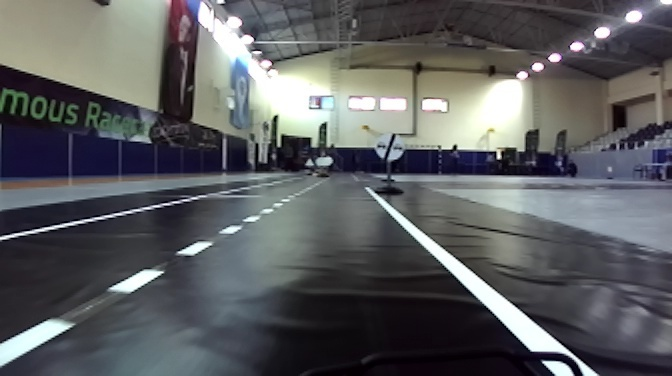sollama_serbest: (374, 132, 405, 161)
